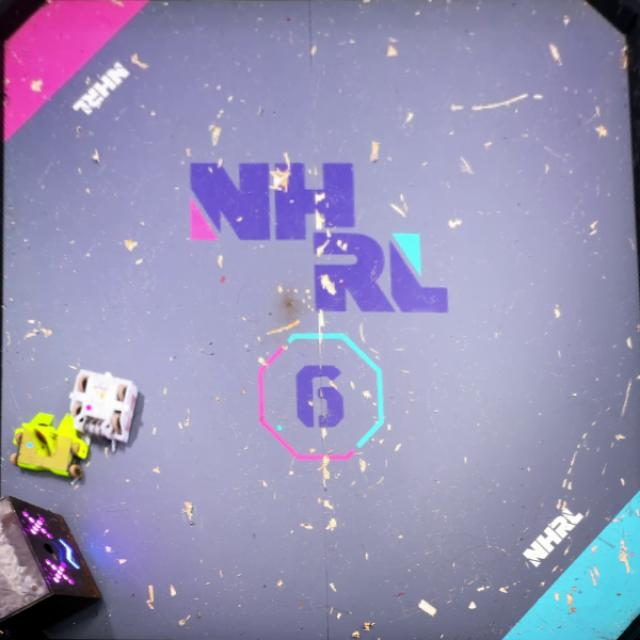housebot: (0, 493, 107, 639)
robot: (68, 370, 139, 453), (9, 412, 89, 480)
